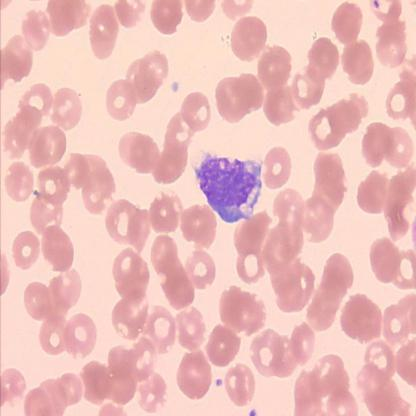Monocyte: (189, 148, 265, 224)
